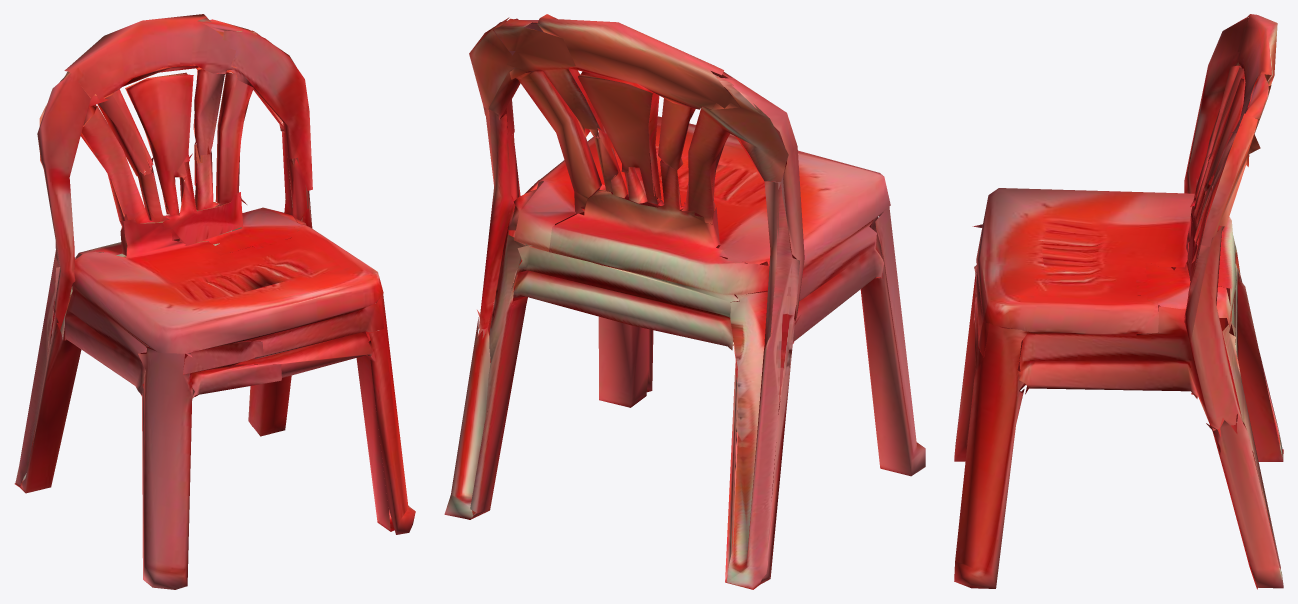
Rendered from kursi.glb.
The picture shows the model from 3 angles, left to right: view 1: azimuth 30°, elevation 25°; view 2: azimuth 150°, elevation 25°; view 3: azimuth 270°, elevation 25°; orthographic projection. The views are drawn at different scales.
Visible parts, largest first — view 1: model; view 2: model; view 3: model.
Boxes of the visible parts, x1=… form: model: x1=14, y1=14, x2=415, y2=589; model: x1=444, y1=14, x2=925, y2=589; model: x1=954, y1=14, x2=1283, y2=589.
Size of the model in its own units: 1.16 by 1.85 by 1.14.
Materials: 1 (1 with a texture image).
